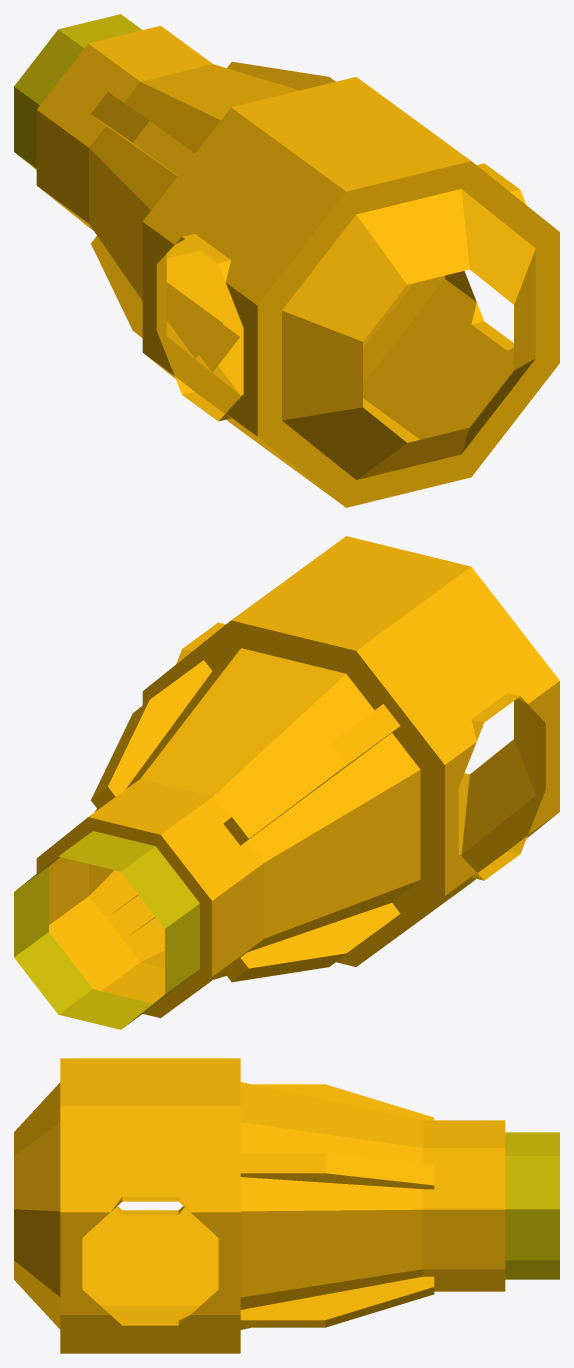
Rendered from mpe_differential.dae.
3 renders of one model, top to bottom at view 1: azimuth 30°, elevation 25°; view 2: azimuth 150°, elevation 25°; view 3: azimuth 270°, elevation 25°, orthographic. The views are drawn at different scales.
Visible parts, largest first — view 1: differential; view 2: differential; view 3: differential.
Boxes of the visible parts, x1,y1,x2,y2 form: differential: (14, 14, 559, 507); differential: (14, 536, 559, 1029); differential: (14, 1058, 559, 1353).
Size of the model in its own units: 0.25 by 0.5 by 0.25.
